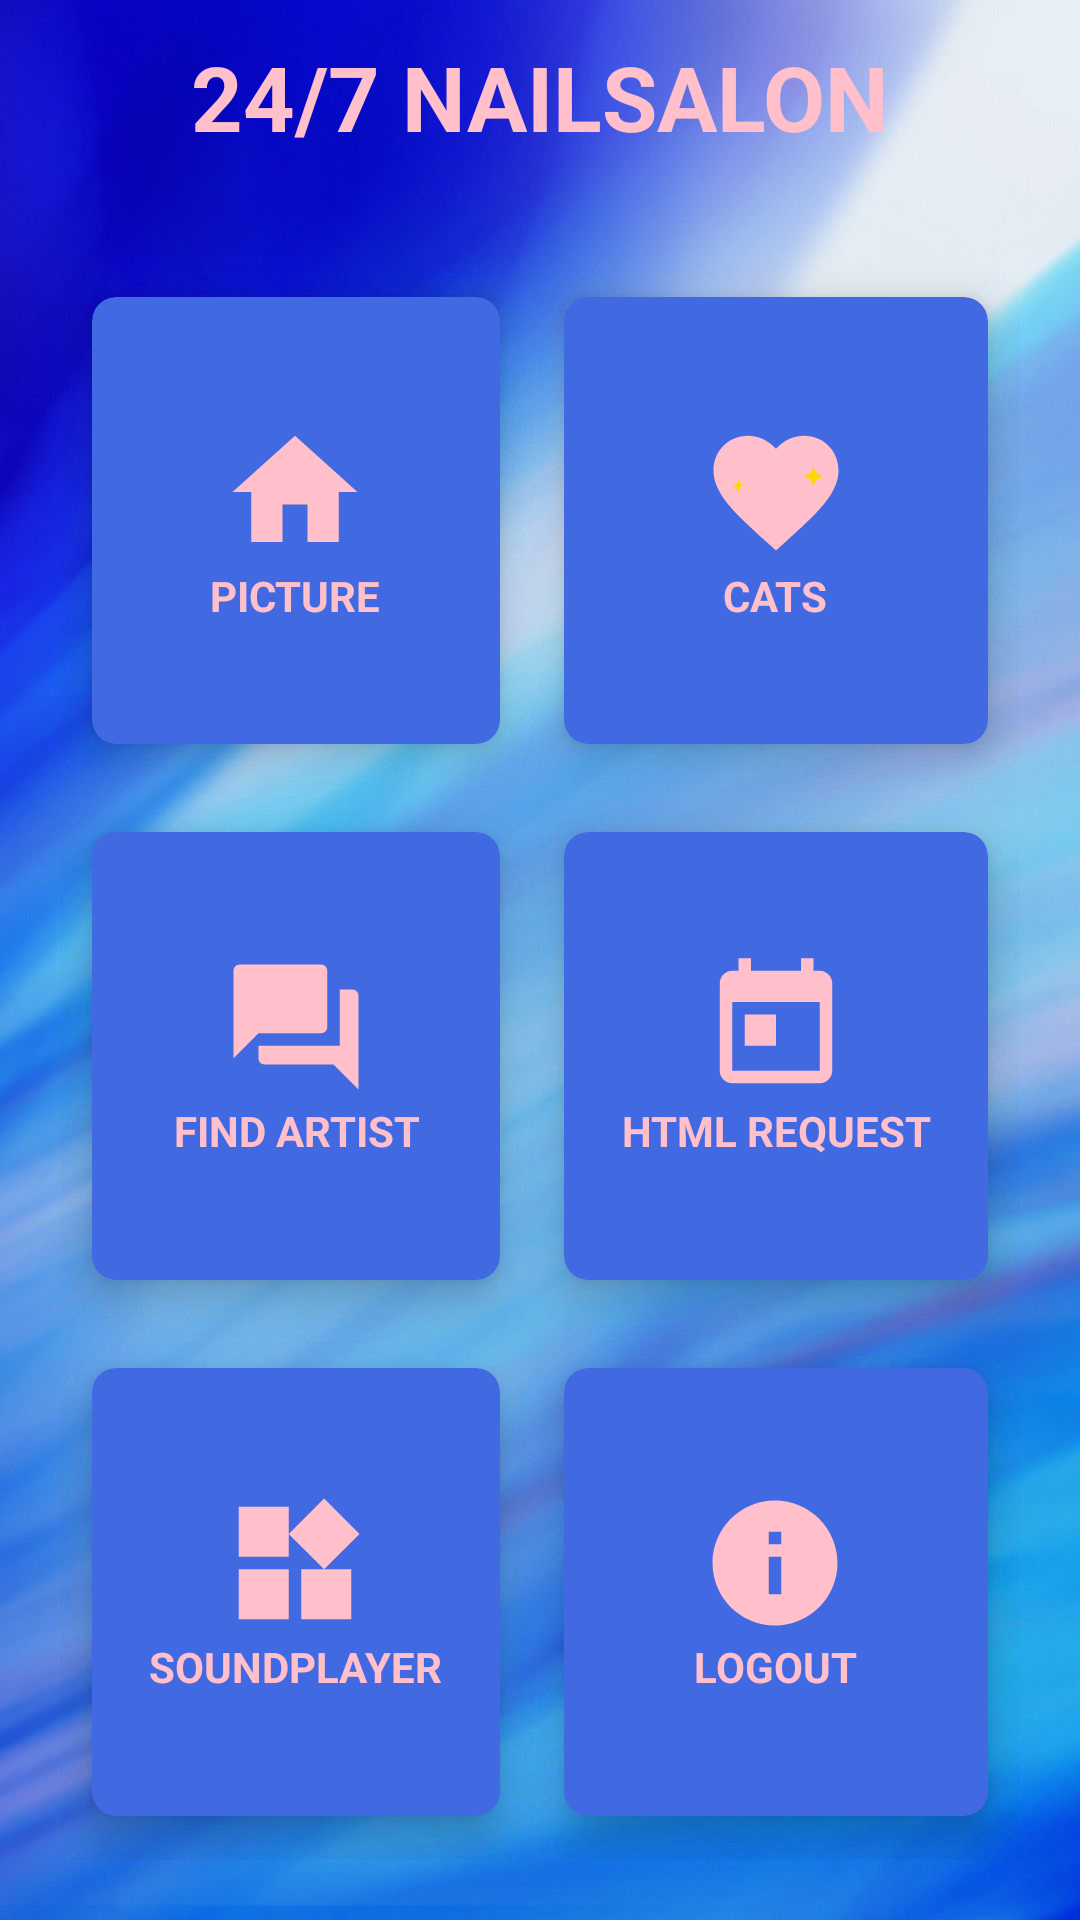

Screen size 1080w x 1920h. Icon name, then its box in pixels as bbox=(x1, y1, x2, y2):
calendar: bbox=(719, 958, 833, 1084)
chat: bbox=(233, 964, 359, 1089)
heart: bbox=(713, 435, 839, 551)
home: bbox=(233, 436, 357, 542)
info: bbox=(712, 1500, 838, 1626)
widgets: bbox=(238, 1498, 359, 1620)
